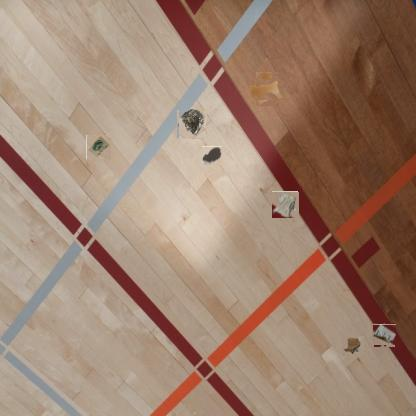dirty: (178, 109, 207, 139), (272, 192, 299, 218), (87, 135, 111, 160), (373, 324, 396, 346), (342, 336, 364, 356)
liquid: (253, 75, 281, 103), (202, 146, 222, 165)
